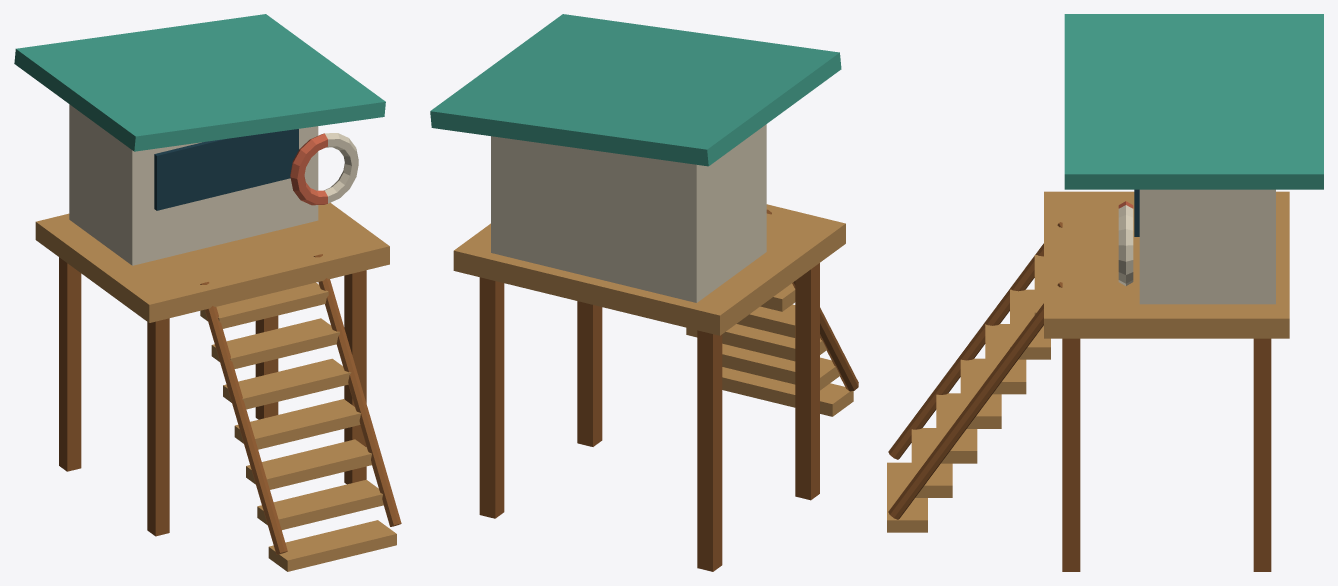
File: lifeguard_tower.glb
The picture shows the model from 3 angles, left to right: view 1: azimuth 30°, elevation 25°; view 2: azimuth 150°, elevation 25°; view 3: azimuth 270°, elevation 25°; orthographic projection. The views are drawn at different scales.
Visible parts, largest first — view 1: lifeguard_tower_pc; view 2: lifeguard_tower_pc; view 3: lifeguard_tower_pc.
Part boxes in pixels (x1=…): lifeguard_tower_pc: x1=14, y1=14, x2=401, y2=571; lifeguard_tower_pc: x1=430, y1=14, x2=858, y2=571; lifeguard_tower_pc: x1=887, y1=14, x2=1323, y2=571.
Size of the model in its own units: 2.31 by 3.53 by 3.2.
